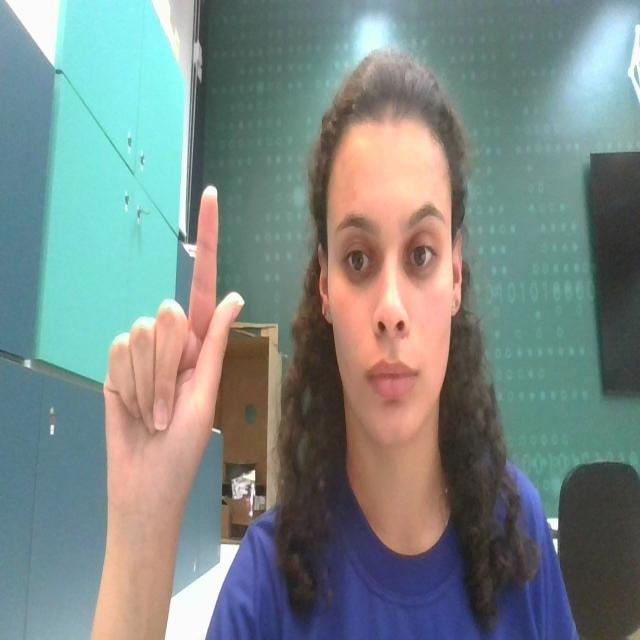G: (90, 174, 248, 534)
